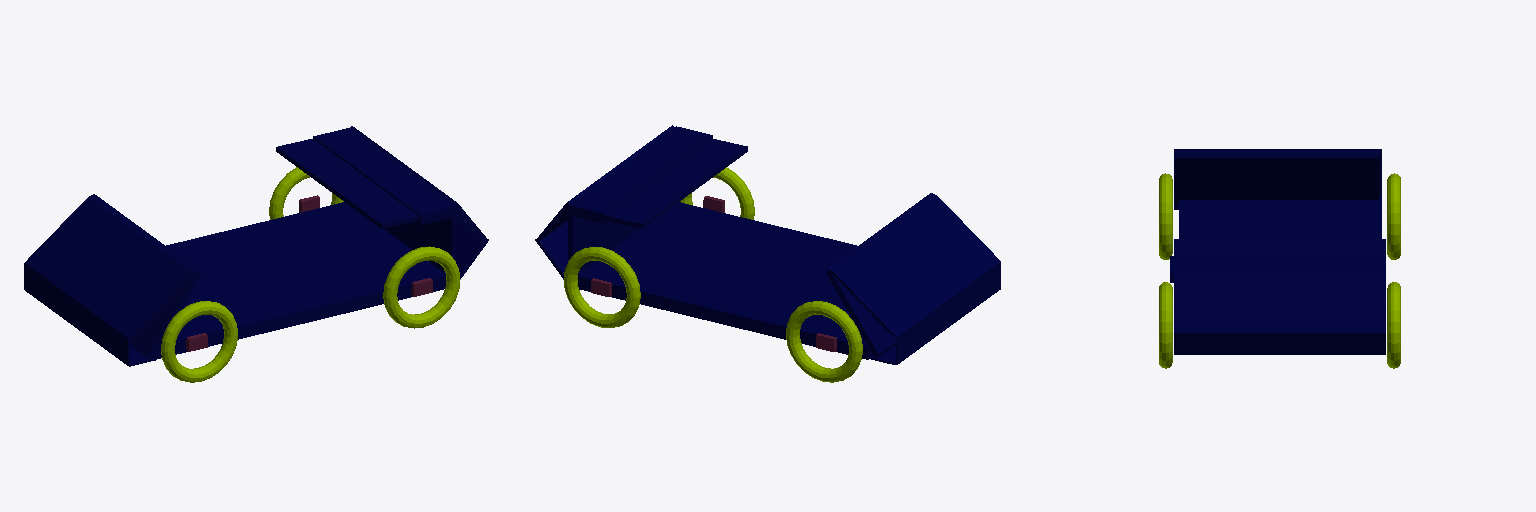
Rendered from testcar_0319.obj.
3 views of the same model, side by side, from view 1: azimuth 30°, elevation 25°; view 2: azimuth 150°, elevation 25°; view 3: azimuth 270°, elevation 25° (orthographic).
Visible parts, largest first — view 1: floor_001, bumper2_003, trunk_002, trunk2_003, bumper2_002, l_r_tire_002, l_f_tire_002, trunk_001, bumper_001, trunk2_001, r_r_tire_002, trunk2_002; view 2: floor_001, bumper2_003, trunk_002, trunk2_003, bumper2_002, r_f_tire_002, r_r_tire_002, trunk_001, bumper_001, trunk2_001, l_r_tire_002, trunk2_002; view 3: trunk2_002, bumper_001, floor_001, trunk2_001, trunk2_003, trunk_002, r_r_tire_002, l_r_tire_002, r_f_tire_002, l_f_tire_002.
Boxes of the visible parts, x1=… form: floor_001: x1=154, y1=202, x2=445, y2=359; bumper2_003: x1=25, y1=194, x2=197, y2=337; trunk_002: x1=276, y1=139, x2=418, y2=228; trunk2_003: x1=313, y1=128, x2=457, y2=224; bumper2_002: x1=24, y1=263, x2=129, y2=365; l_r_tire_002: x1=383, y1=246, x2=460, y2=328; l_f_tire_002: x1=161, y1=301, x2=237, y2=382; trunk_001: x1=384, y1=217, x2=455, y2=273; bumper_001: x1=99, y1=197, x2=200, y2=359; trunk2_001: x1=456, y1=221, x2=488, y2=278; r_r_tire_002: x1=269, y1=167, x2=343, y2=219; trunk2_002: x1=350, y1=126, x2=486, y2=240; floor_001: x1=578, y1=202, x2=872, y2=359; bumper2_003: x1=828, y1=193, x2=999, y2=336; trunk_002: x1=605, y1=138, x2=747, y2=228; trunk2_003: x1=568, y1=126, x2=712, y2=223; bumper2_002: x1=896, y1=261, x2=1000, y2=364; r_f_tire_002: x1=786, y1=301, x2=862, y2=382; r_r_tire_002: x1=563, y1=247, x2=640, y2=327; trunk_001: x1=568, y1=215, x2=639, y2=273; bumper_001: x1=826, y1=197, x2=924, y2=357; trunk2_001: x1=535, y1=221, x2=567, y2=278; l_r_tire_002: x1=680, y1=167, x2=754, y2=219; trunk2_002: x1=537, y1=125, x2=674, y2=240; trunk2_002: x1=1174, y1=273, x2=1385, y2=329; bumper_001: x1=1175, y1=151, x2=1378, y2=206; floor_001: x1=1179, y1=199, x2=1381, y2=238; trunk2_001: x1=1174, y1=330, x2=1385, y2=354; trunk2_003: x1=1170, y1=256, x2=1385, y2=282; trunk_002: x1=1174, y1=239, x2=1385, y2=255; r_r_tire_002: x1=1387, y1=282, x2=1400, y2=368; l_r_tire_002: x1=1159, y1=282, x2=1172, y2=368; r_f_tire_002: x1=1387, y1=173, x2=1400, y2=259; l_f_tire_002: x1=1159, y1=173, x2=1172, y2=259.
Size of the model in its own units: 31.12 by 9.2 by 18.13.